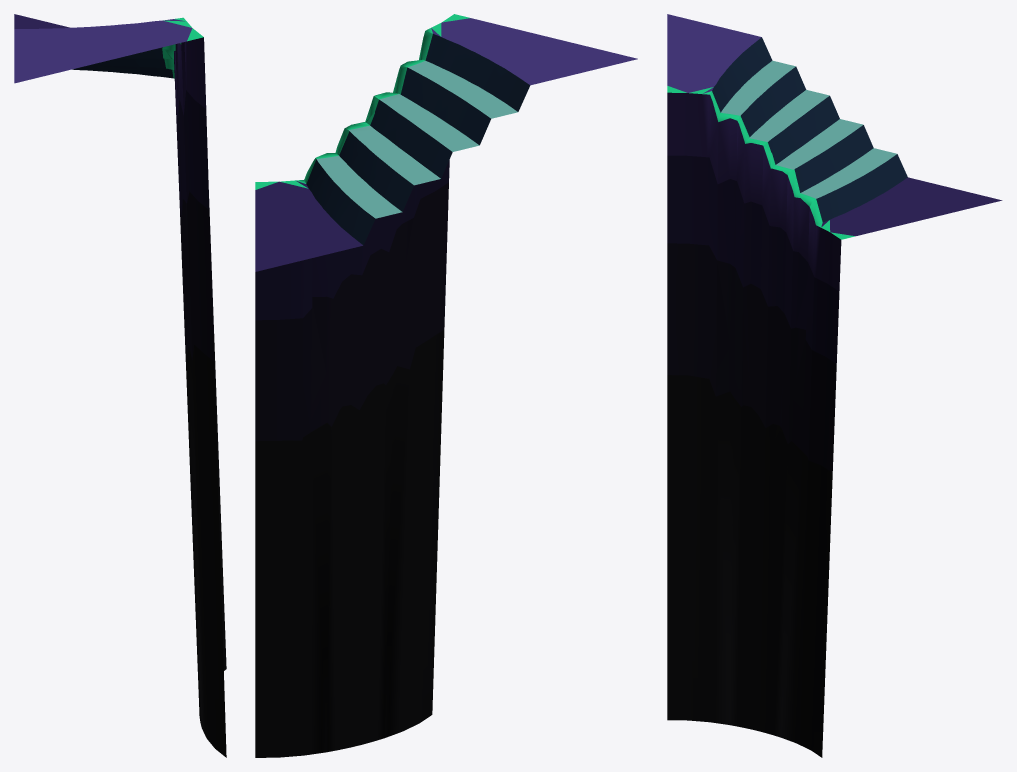
File: MODULE_ALIEN_RIM_STEP_R_1_STAIRS.fbx
3 renders of one model, left to right at view 1: azimuth 30°, elevation 25°; view 2: azimuth 150°, elevation 25°; view 3: azimuth 270°, elevation 25°, orthographic. The views are drawn at different scales.
Visible parts, largest first — view 1: MODULE_ALIEN_RIM_STEP_R_1_STAIRS__export; view 2: MODULE_ALIEN_RIM_STEP_R_1_STAIRS__export; view 3: MODULE_ALIEN_RIM_STEP_R_1_STAIRS__export.
Part boxes in pixels (<box>): MODULE_ALIEN_RIM_STEP_R_1_STAIRS__export: <box>14,14,226,757</box>; MODULE_ALIEN_RIM_STEP_R_1_STAIRS__export: <box>255,14,637,757</box>; MODULE_ALIEN_RIM_STEP_R_1_STAIRS__export: <box>667,14,1002,757</box>.
Bounding box in the file's own units: 76.91 × 176 × 86.6.
